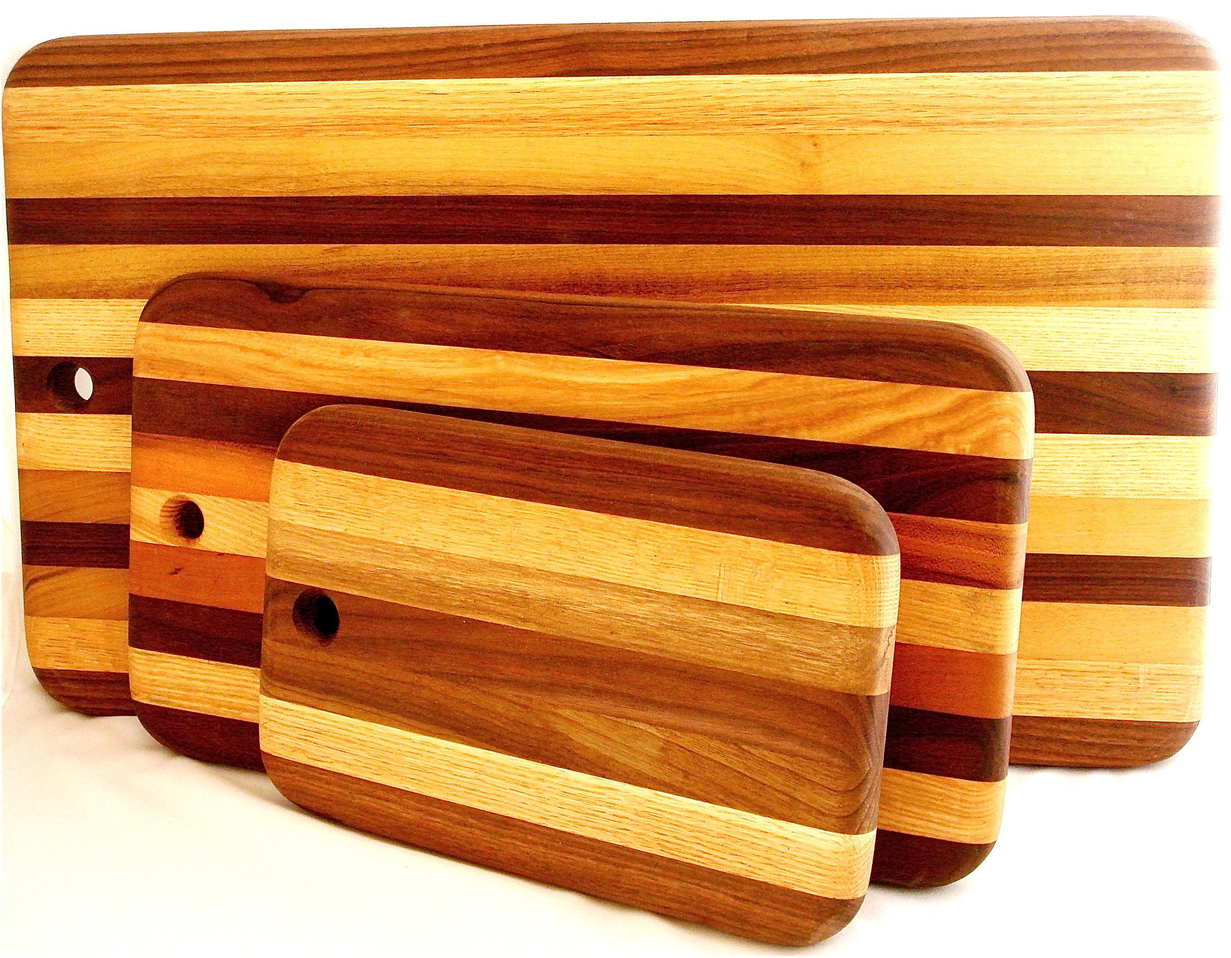gloved_hand: (245, 399, 905, 957)
